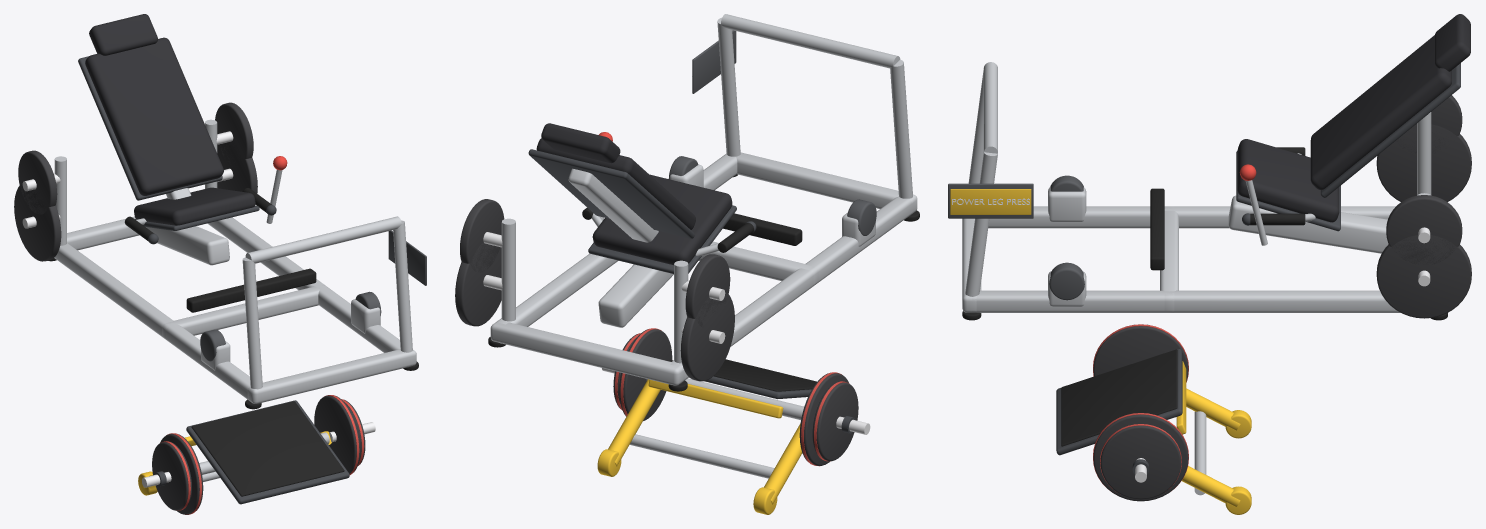
File: PowerLegPress.fbx
3 views of the same model, side by side, from view 1: azimuth 30°, elevation 25°; view 2: azimuth 150°, elevation 25°; view 3: azimuth 270°, elevation 25° (orthographic). The views are drawn at different scales.
Visible parts, largest first — view 1: Backrest, FootPlate_Grip, Base_Rail_L, Base_Cross_Front, Base_Rail_R, Seat, Base_Cross_Mid, Stored_Plate_L1, Plate_R1, Front_Guard_Top, Headrest, Seat_Frame (+16 smaller); view 2: Seat, Base_Rail_L, Base_Cross_Back, Backrest_Shell, Base_Cross_Front, Base_Rail_R, Stored_Plate_L1, Stored_Plate_R1, Front_Guard_Top, Seat_Frame, Plate_L2, Stored_Plate_R2 (+23 smaller); view 3: Base_Rail_R, Backrest, FootPlate_Grip, Stored_Plate_R1, Seat, Stored_Plate_L1, Plate_R2, Base_Rail_L, Stored_Plate_R2, Seat_Frame, Plate_L1, Placard (+20 smaller).
Part boxes in pixels (box(x1,y1,x2,y2)): Backrest: box(85, 37, 223, 195); FootPlate_Grip: box(191, 401, 344, 496); Base_Rail_L: box(54, 243, 250, 400); Base_Cross_Front: box(247, 349, 416, 403); Base_Rail_R: box(207, 217, 400, 352); Seat: box(134, 187, 255, 225); Base_Cross_Mid: box(162, 285, 325, 339); Stored_Plate_L1: box(14, 184, 61, 261); Plate_R1: box(314, 395, 360, 473); Front_Guard_Top: box(245, 216, 401, 263); Headrest: box(89, 14, 157, 55); Seat_Frame: box(146, 226, 229, 265); Seat: box(592, 174, 732, 265); Base_Rail_L: box(670, 196, 914, 381); Base_Cross_Back: box(490, 321, 684, 385); Backrest_Shell: box(528, 149, 694, 238); Base_Cross_Front: box(736, 152, 917, 212); Base_Rail_R: box(496, 153, 737, 326); Stored_Plate_L1: box(680, 293, 734, 381); Stored_Plate_R1: box(455, 242, 501, 326); Front_Guard_Top: box(721, 14, 900, 68); Seat_Frame: box(598, 264, 673, 327); Plate_L2: box(812, 382, 858, 461); Stored_Plate_R2: box(460, 199, 504, 272); Base_Rail_R: box(972, 290, 1400, 312); Backrest: box(1310, 35, 1451, 189); FootPlate_Grip: box(1061, 349, 1177, 446); Stored_Plate_R1: box(1376, 235, 1471, 318); Seat: box(1237, 139, 1339, 222); Stored_Plate_L1: box(1376, 124, 1471, 201); Plate_R2: box(1100, 424, 1181, 499); Base_Rail_L: box(988, 206, 1395, 228); Stored_Plate_R2: box(1386, 195, 1462, 264); Seat_Frame: box(1228, 195, 1388, 253); Plate_L1: box(1093, 324, 1188, 381); Placard: box(950, 189, 1031, 214).
Size of the model in its own units: 1.28 by 2.07 by 2.2.
